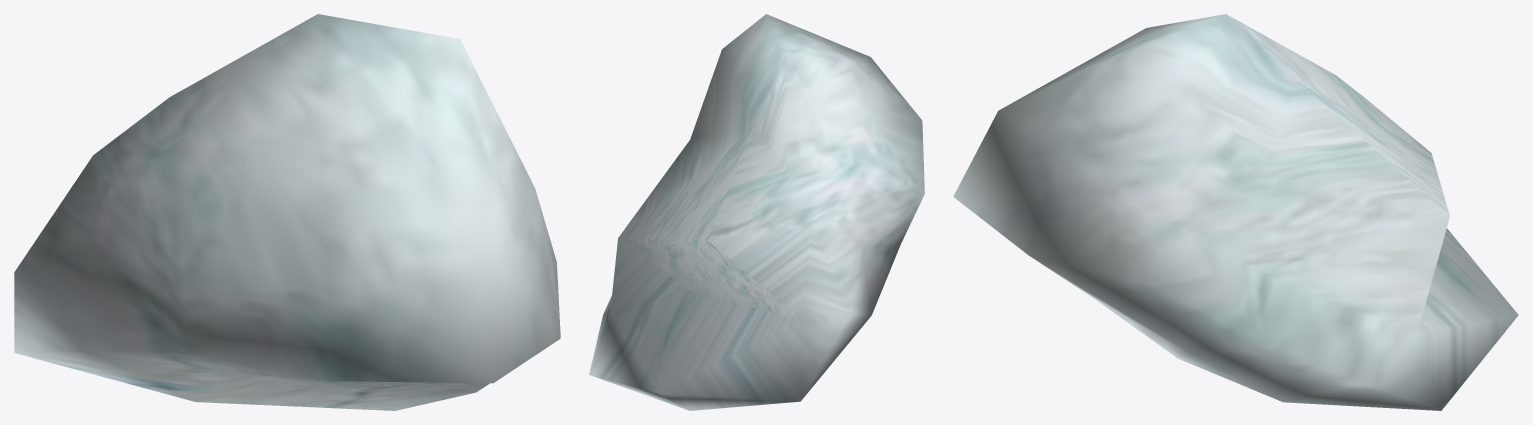
3 renders of one model, left to right at view 1: azimuth 30°, elevation 25°; view 2: azimuth 150°, elevation 25°; view 3: azimuth 270°, elevation 25°, orthographic. The views are drawn at different scales.
Parts seen in each view (by area): view 1: model_Object71; view 2: model_Object71; view 3: model_Object71.
Part boxes in pixels (<box>): model_Object71: <box>14,14,560,410</box>; model_Object71: <box>589,14,924,410</box>; model_Object71: <box>953,14,1518,410</box>.
Size of the model in its own units: 1.71 by 1.8 by 2.68.
Materials: 1 (1 with a texture image).
